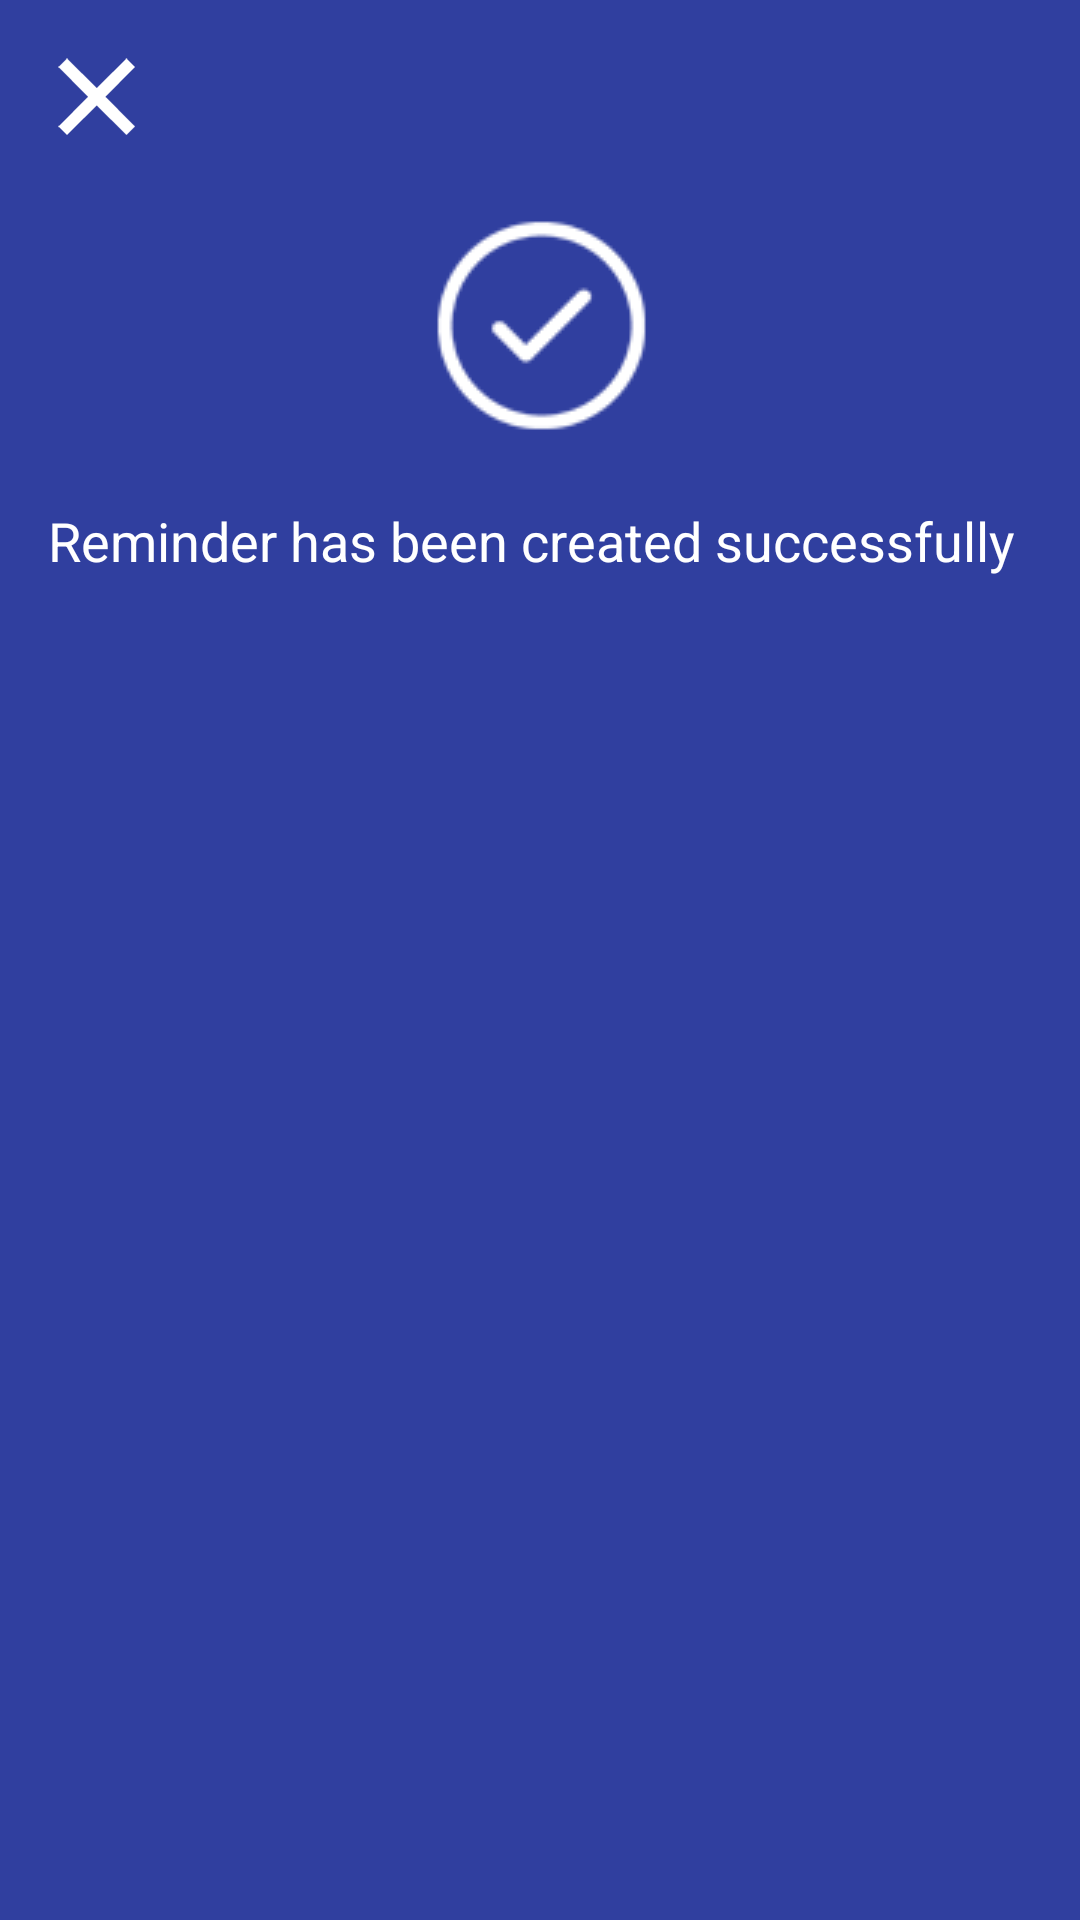

Icon click points for this 1080×1920 phone screenshot, format (x=x, y=y):
close: (x=96, y=96)
